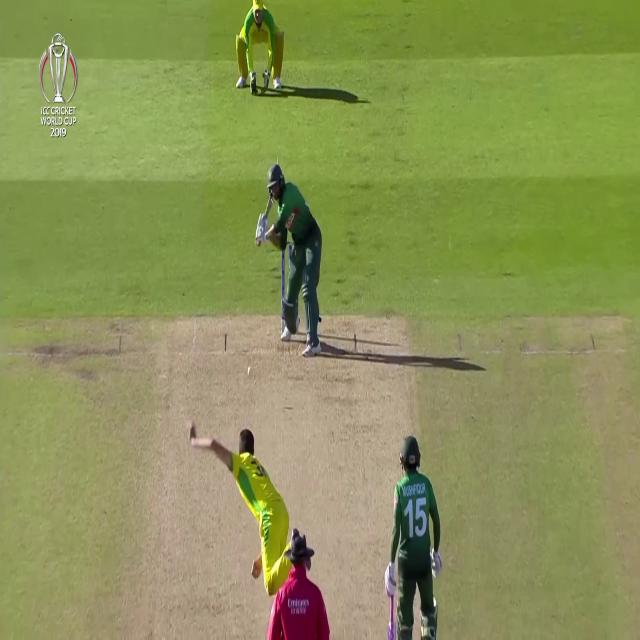ball: (245, 362, 254, 378)
